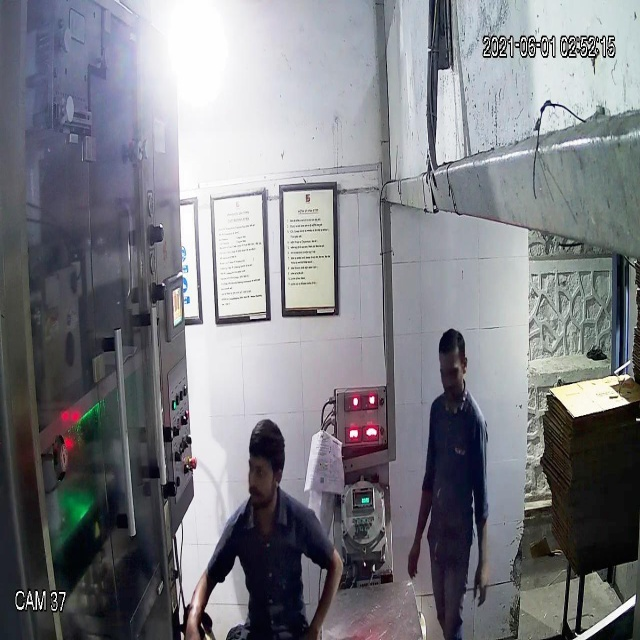Sin_gafas: (244, 455, 285, 489), (434, 361, 471, 388)
